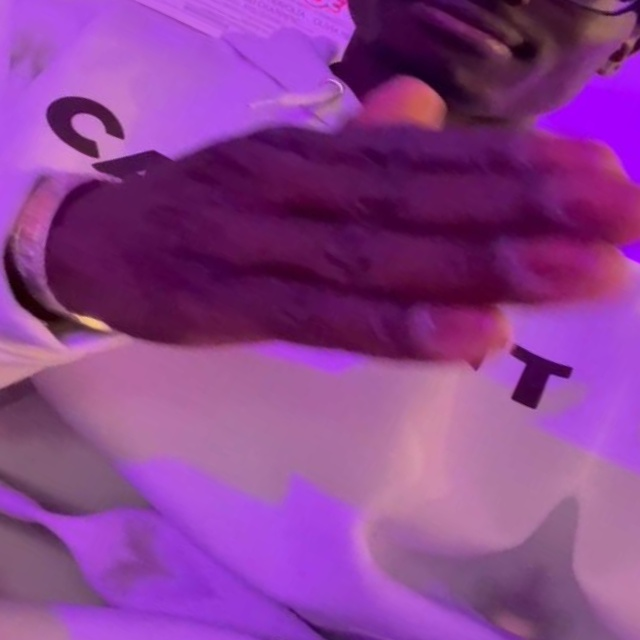Paper: (0, 0, 14, 210)
